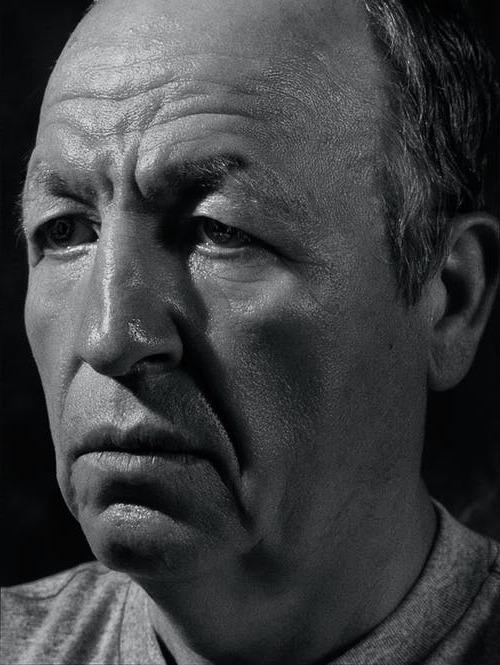Wrinkles: (48, 78, 253, 106), (155, 111, 256, 125), (44, 122, 106, 136), (308, 289, 335, 314), (216, 276, 266, 284), (133, 160, 142, 199), (205, 129, 245, 134), (173, 138, 201, 144)
